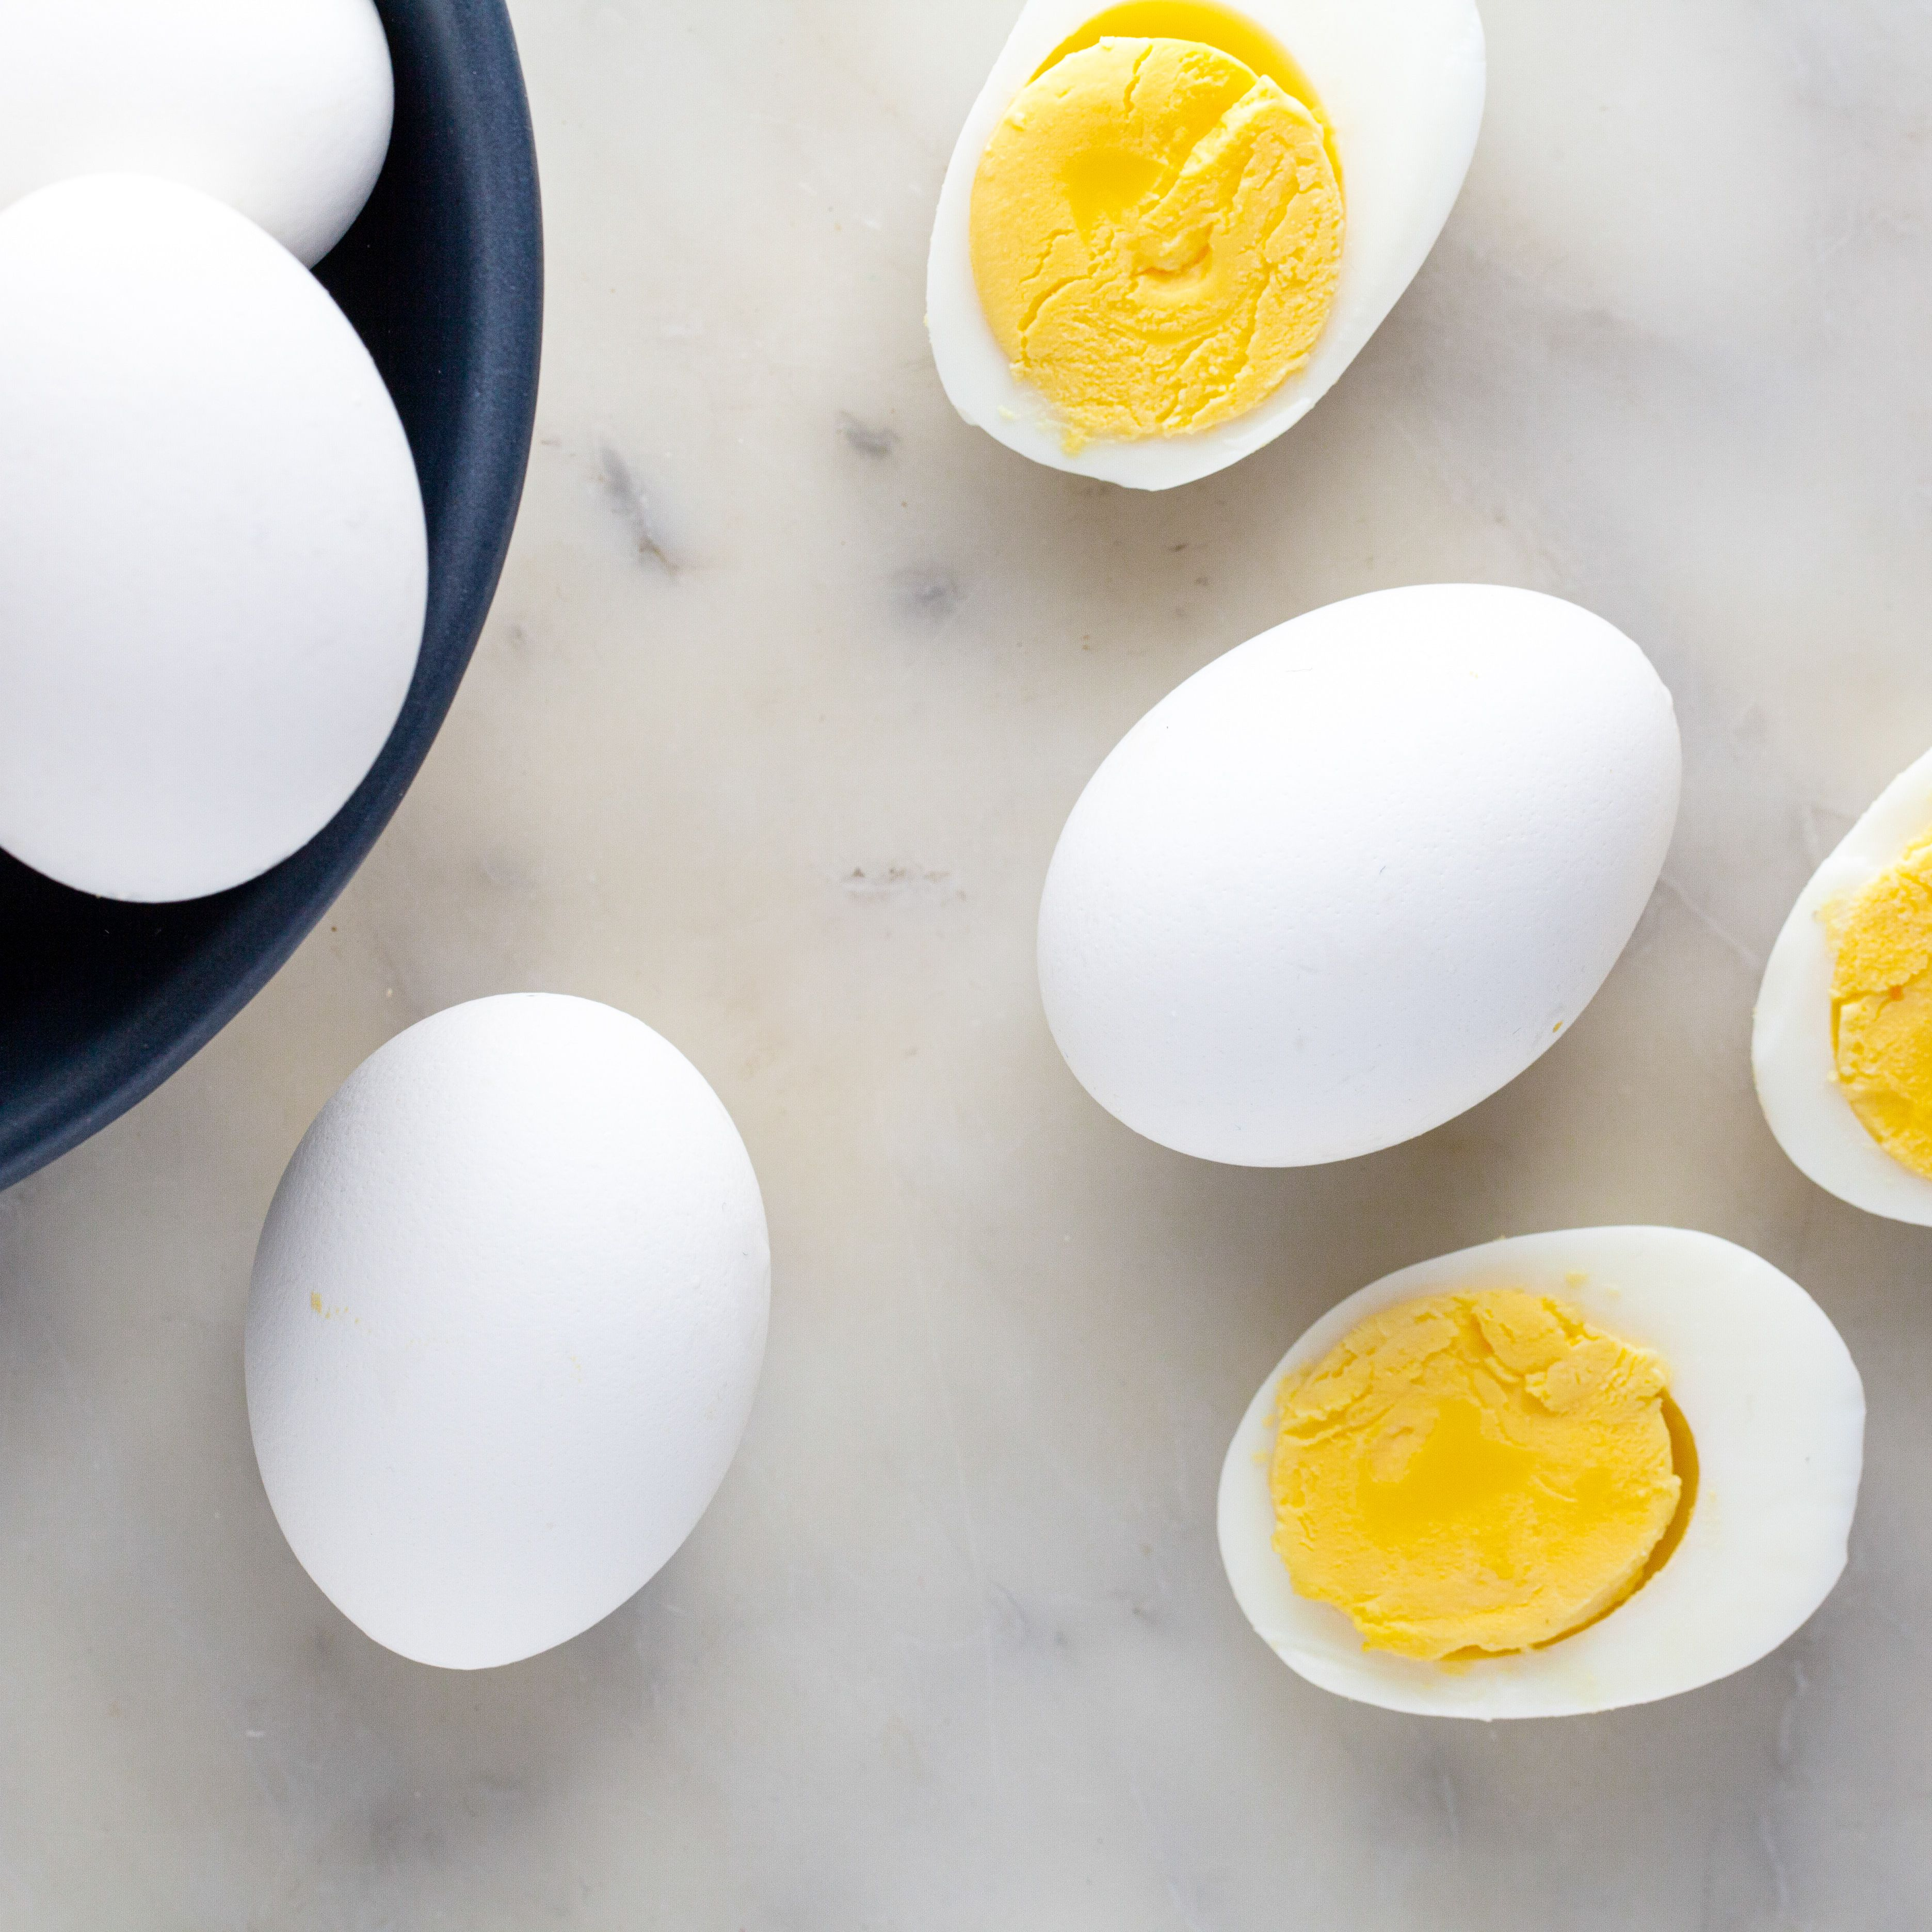Telur: (129, 964, 787, 1624), (1187, 1178, 1829, 1821), (895, 0, 1468, 573), (2, 257, 575, 830), (1125, 633, 1658, 1166), (1645, 872, 1932, 1159)
